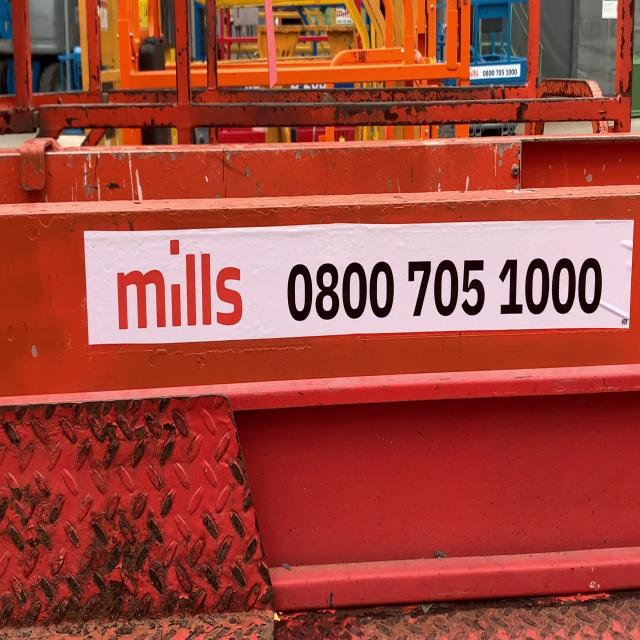Adesivo Longo: (76, 214, 638, 359)
